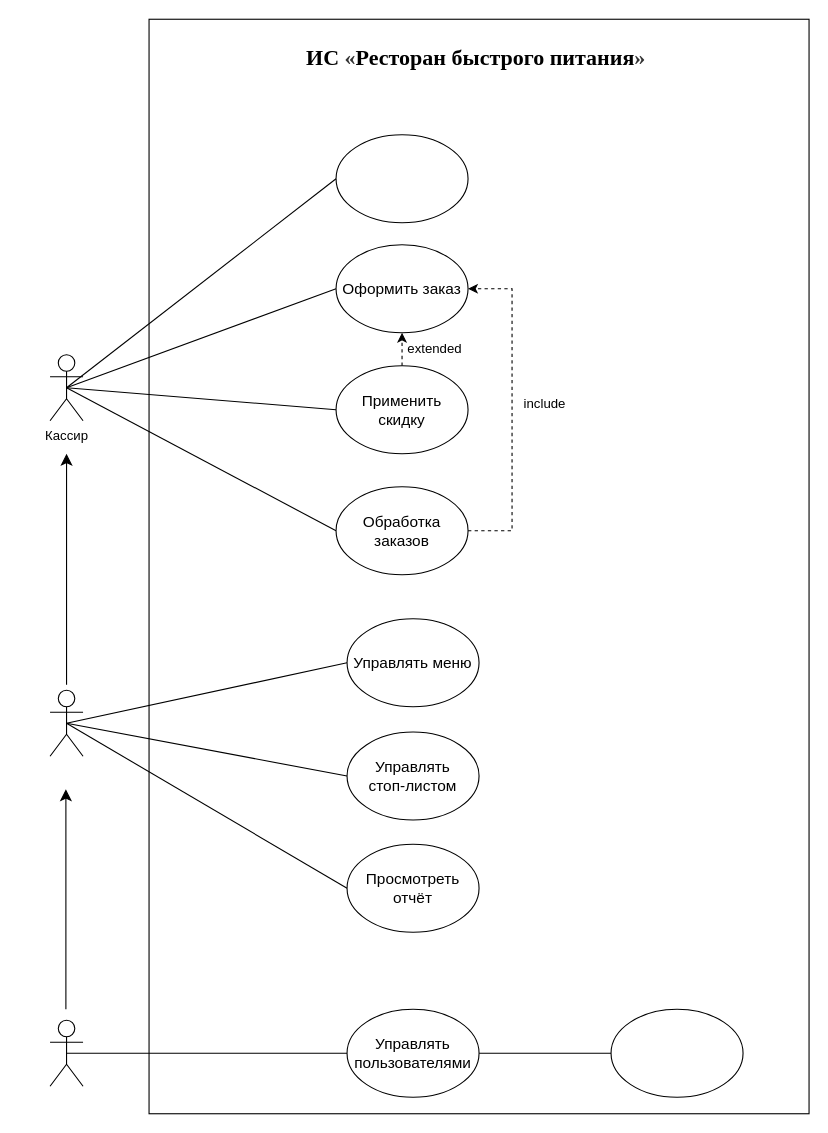
The diagram is 828 pixels wide and 1133 high, and some of its shapes have lost their labels. The shapes that lost their labels are listed below. From the top down, each one's centre as x and y in pixels, then its label:
At [401,178]: "Аворизация".
At [66,722]: "Менеджер".
At [66,1052]: "Администратор".
At [676,1052]: "Назначение ролей".
